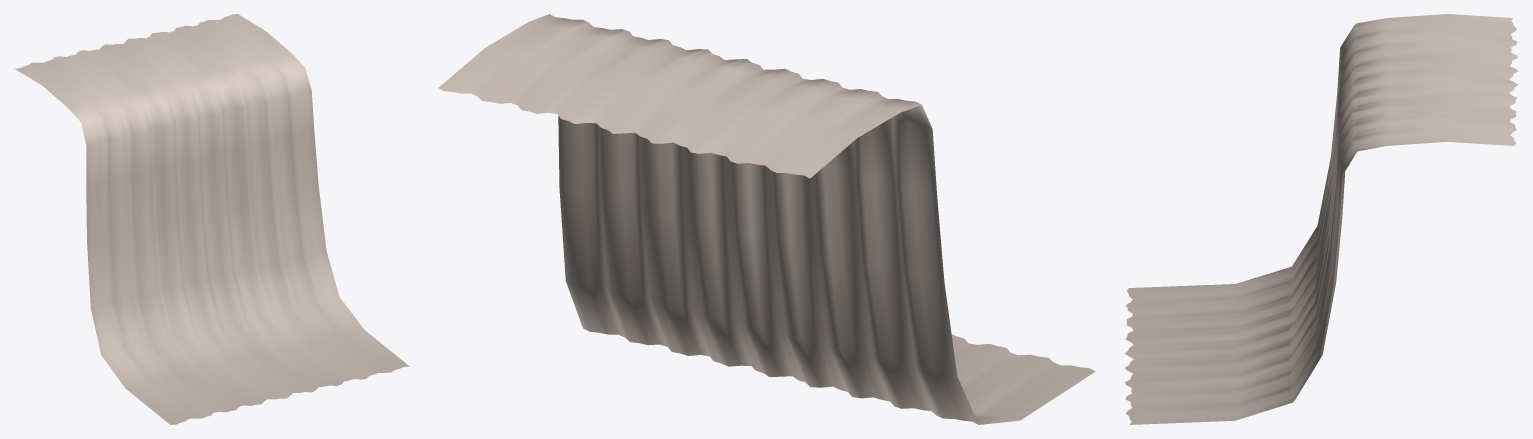
File: biome-fall.glb
3 renders of one model, left to right at view 1: azimuth 30°, elevation 25°; view 2: azimuth 150°, elevation 25°; view 3: azimuth 270°, elevation 25°, orthographic. The views are drawn at different scales.
Parts seen in each view (by area): view 1: Continuous poured waterfall; view 2: Continuous poured waterfall; view 3: Continuous poured waterfall.
Boxes of the visible parts, x1=… form: Continuous poured waterfall: x1=14, y1=14, x2=409, y2=424; Continuous poured waterfall: x1=438, y1=14, x2=1095, y2=424; Continuous poured waterfall: x1=1124, y1=14, x2=1518, y2=424.
Bounding box in the file's own units: 1.07 × 1.01 × 1.3.
